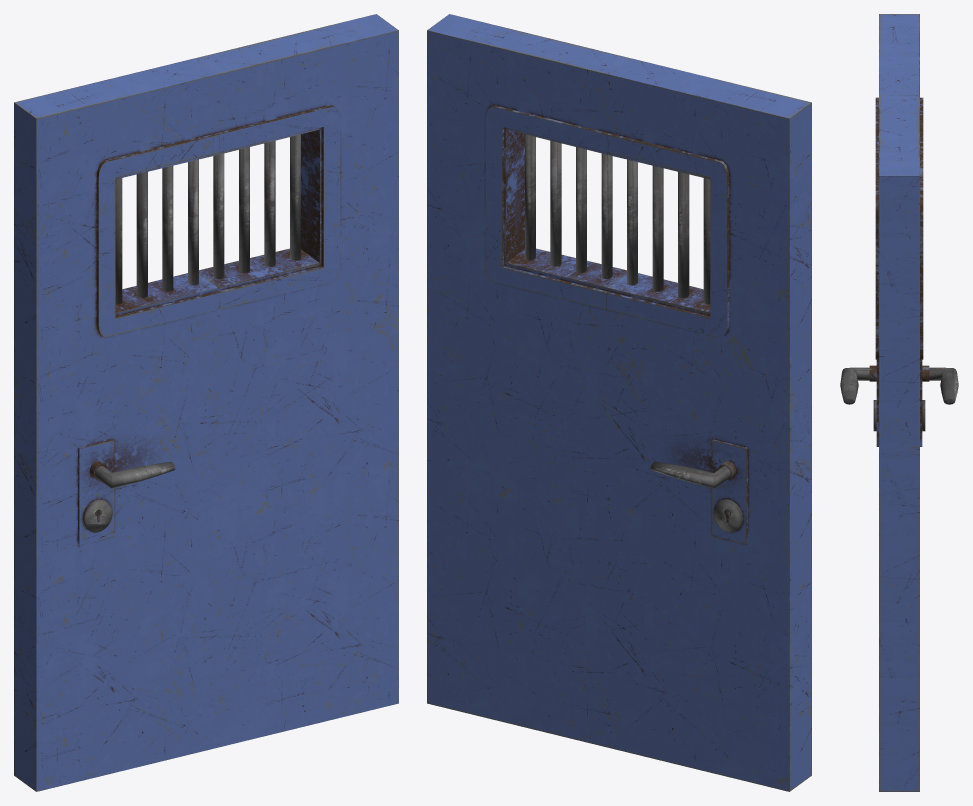
Rendered from doors_smaller.glb.
3 views of the same model, side by side, from view 1: azimuth 30°, elevation 25°; view 2: azimuth 150°, elevation 25°; view 3: azimuth 270°, elevation 25° (orthographic). The views are drawn at different scales.
Parts seen in each view (by area): view 1: Cube; view 2: Cube; view 3: Cube.
Boxes of the visible parts, left/top/right/bottom form: Cube: left=14, top=14, right=398, bottom=791; Cube: left=427, top=14, right=811, bottom=791; Cube: left=840, top=14, right=958, bottom=791.
Size of the model in its own units: 3.19 by 5.65 by 0.9862.
Materials: 1 (1 with a texture image).
